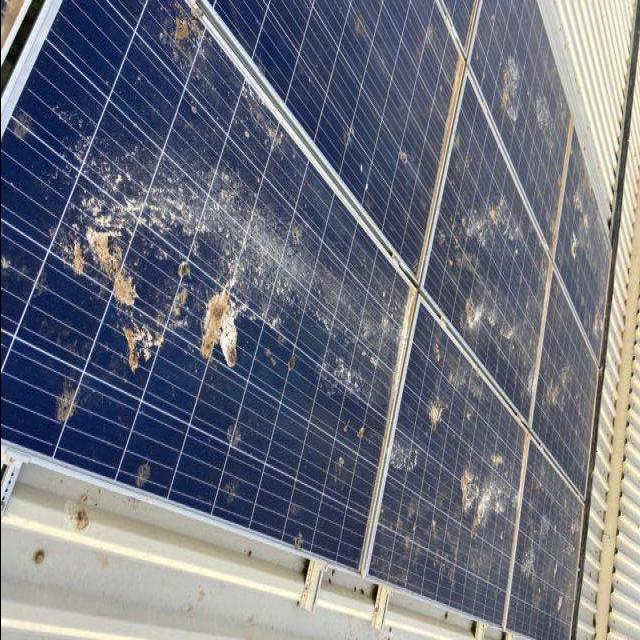soiled: (0, 0, 614, 626)
